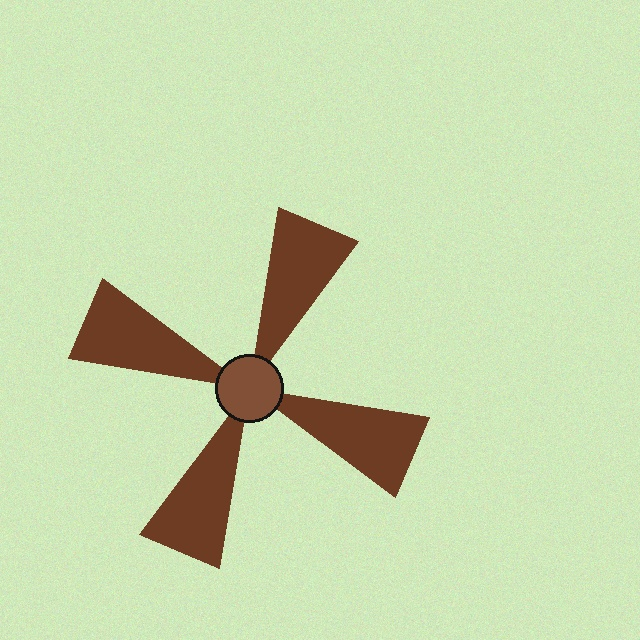fan: (41, 180, 457, 596)
